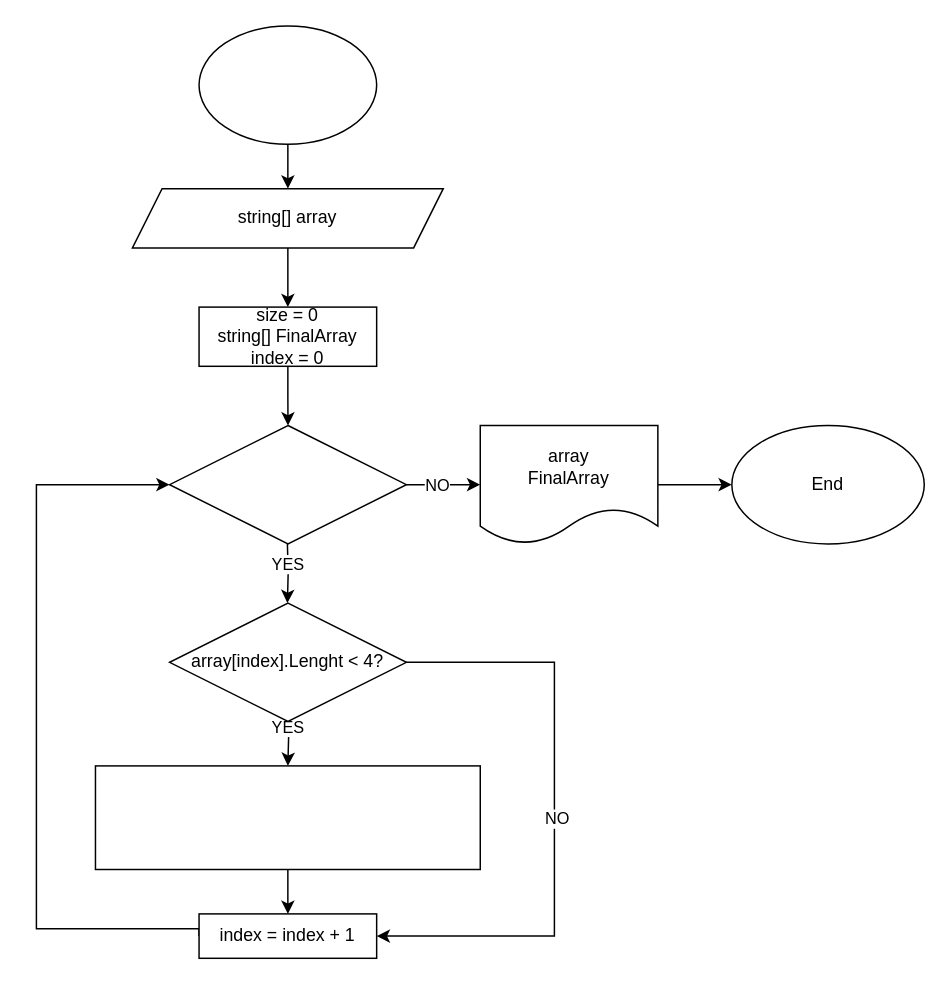
Some shapes in this 950 by 984 pixel diagram are drawn without their labels. The shapes that lost their labels are listed below. From the top down, each one's box as (x1, y1, x2, y2) in pixels, then its label:
(198, 24, 377, 144): Start
(168, 424, 406, 544): index < array.Lenght?
(94, 764, 480, 870): size = size + 1 FinalArray[size-1] = array[index]
